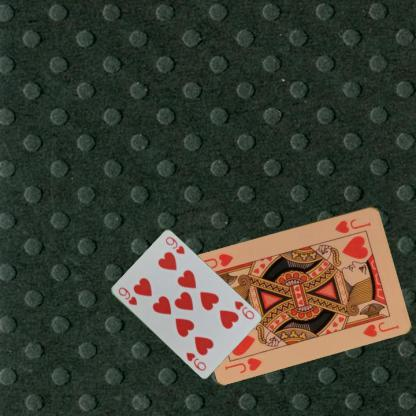9h: (232, 298, 255, 321), (116, 285, 138, 307)
Jh: (222, 354, 263, 375), (332, 216, 373, 234)
